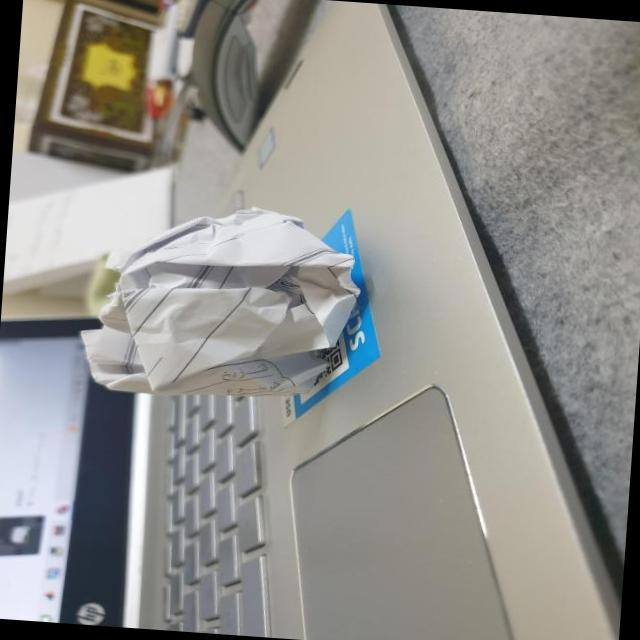cardboard paper: (79, 209, 356, 396)
